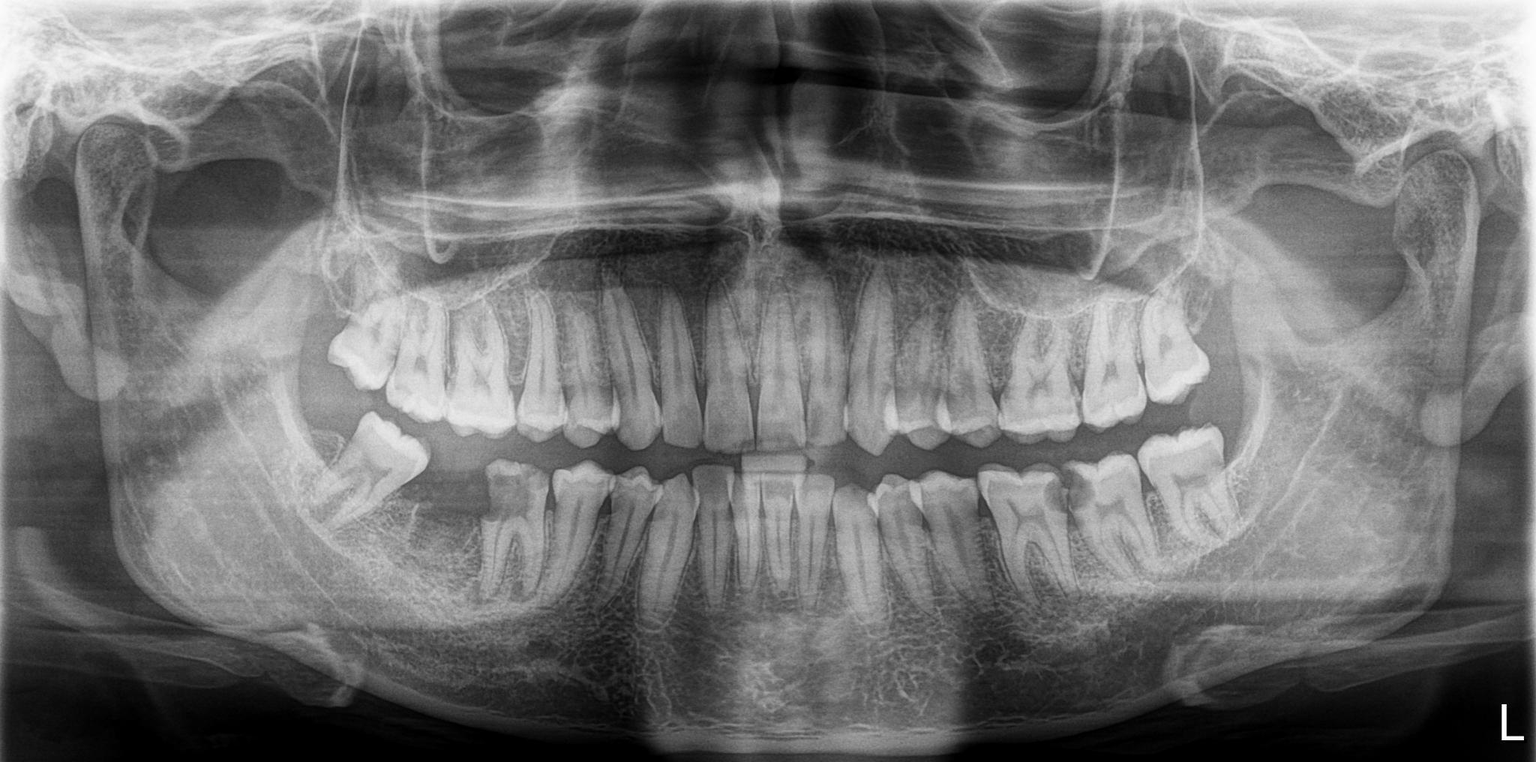Dental Caries: (1035, 471, 1100, 515), (482, 472, 539, 521)
Impacted Third Molar: (319, 417, 412, 524)
Missing Tooth: (414, 461, 490, 575)
